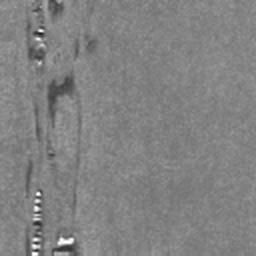Slag inclusion: (46, 68, 84, 216), (24, 187, 81, 256), (24, 0, 64, 61), (32, 96, 58, 161), (74, 32, 99, 60), (24, 152, 35, 192), (36, 67, 44, 78)
